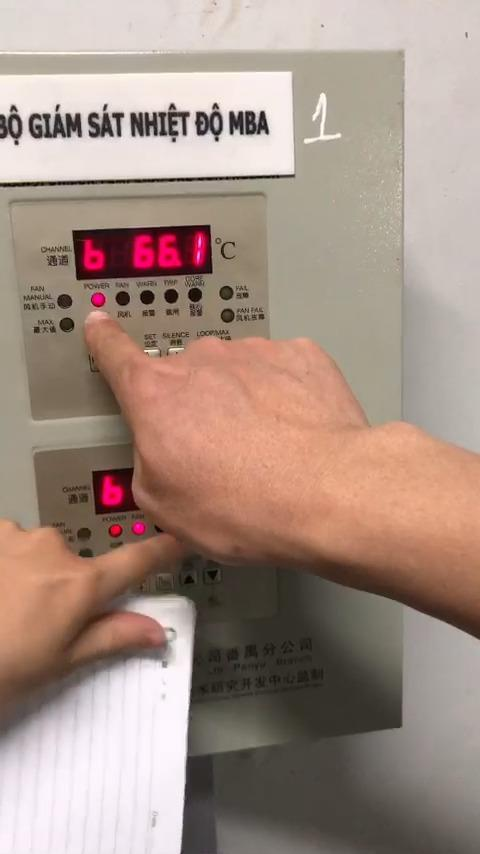led: (163, 287, 180, 304), (218, 284, 235, 300), (57, 293, 73, 310), (59, 316, 75, 333), (186, 286, 202, 302), (139, 289, 155, 304), (91, 292, 107, 307), (115, 291, 130, 306), (220, 308, 235, 323), (109, 524, 124, 539), (76, 527, 91, 542), (132, 521, 146, 536), (77, 548, 93, 561)
